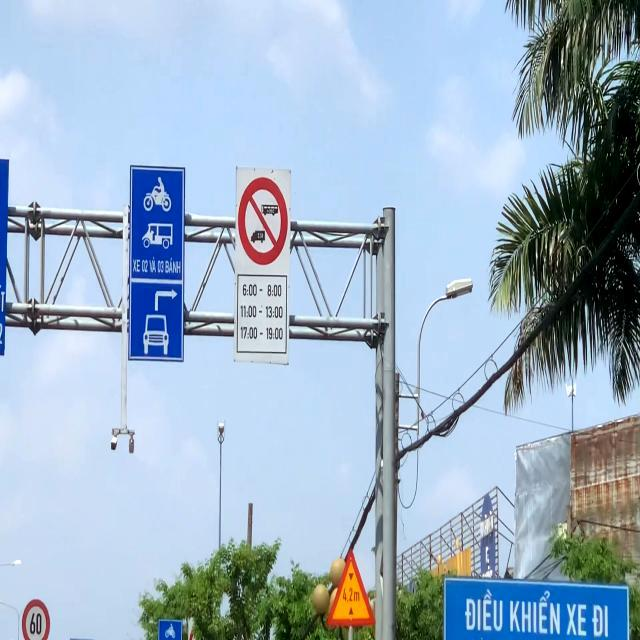Chieu cao an toan: (327, 548, 375, 628)
Toc do toi da cho phep: (22, 598, 50, 640)
